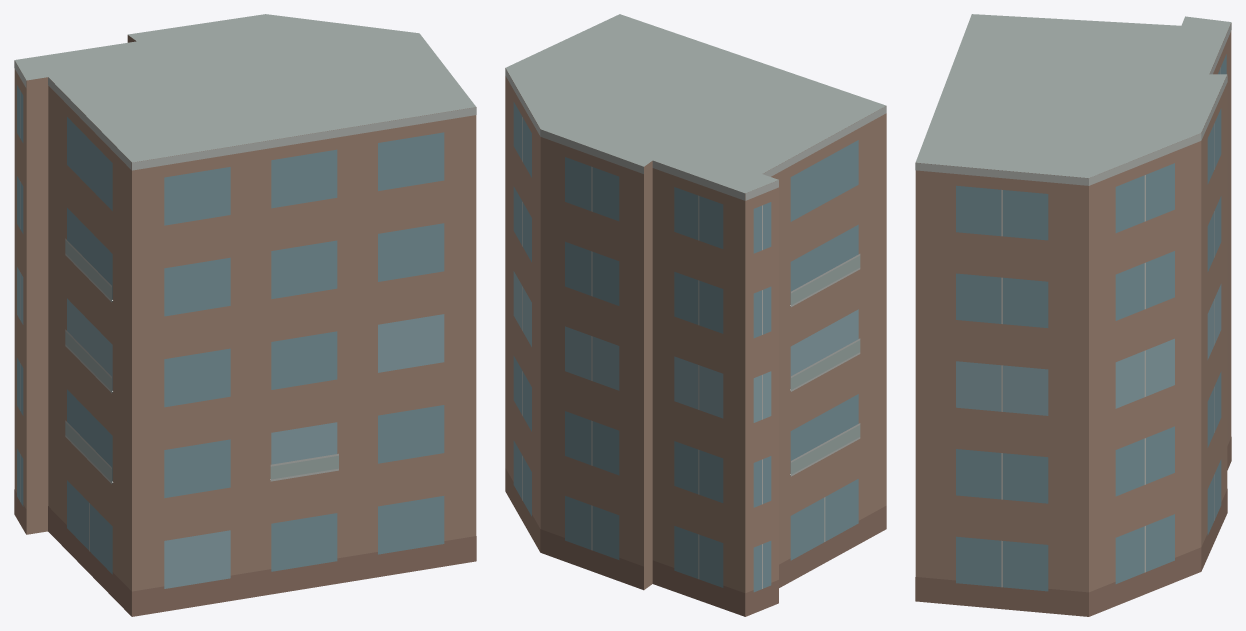
File: survey-upis-32895395.glb
3 views of the same model, side by side, from view 1: azimuth 30°, elevation 25°; view 2: azimuth 150°, elevation 25°; view 3: azimuth 270°, elevation 25° (orthographic). The views are drawn at different scales.
Visible parts, largest first — view 1: survey-upis-32895395.tmp; view 2: survey-upis-32895395.tmp; view 3: survey-upis-32895395.tmp.
Boxes of the visible parts, <box> form: survey-upis-32895395.tmp: <box>14,14,476,616</box>; survey-upis-32895395.tmp: <box>505,14,886,616</box>; survey-upis-32895395.tmp: <box>915,14,1231,616</box>.
Size of the model in its own units: 11.08 by 13.8 by 9.02.
